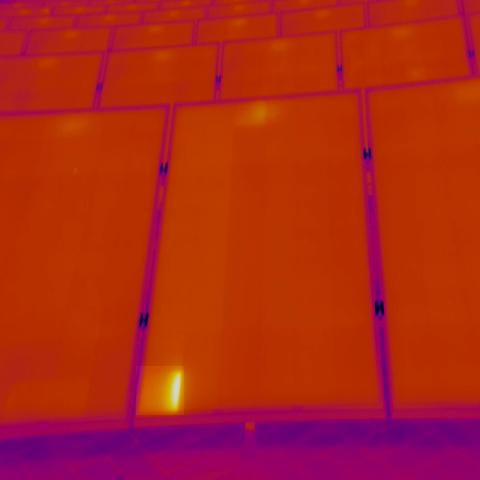fault: (136, 366, 184, 415)
